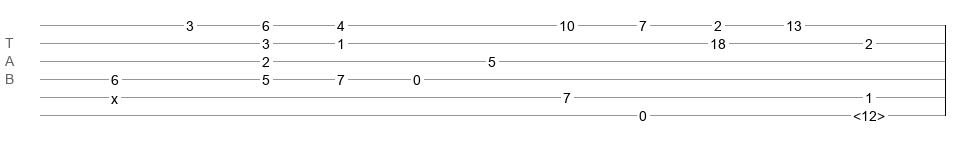0: (413, 72, 421, 82), (639, 108, 647, 118)
1: (337, 36, 345, 46), (865, 90, 873, 100)
10: (559, 18, 575, 28)
13: (786, 18, 802, 28)
18: (710, 36, 726, 46)
2: (262, 54, 270, 64), (714, 18, 722, 28), (865, 36, 873, 46)
3: (186, 18, 194, 28), (262, 36, 270, 46)
4: (337, 18, 345, 28)
5: (262, 72, 270, 82), (488, 54, 496, 64)
6: (111, 72, 119, 82), (262, 18, 270, 28)
7: (337, 72, 345, 82), (563, 90, 571, 100), (639, 18, 647, 28)
harmonic: (853, 108, 885, 118)
x: (111, 91, 118, 99)
